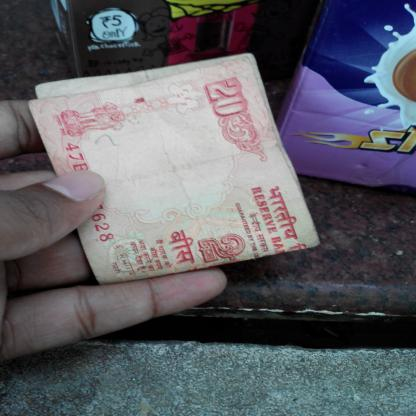Old20Front: (29, 56, 304, 276)
